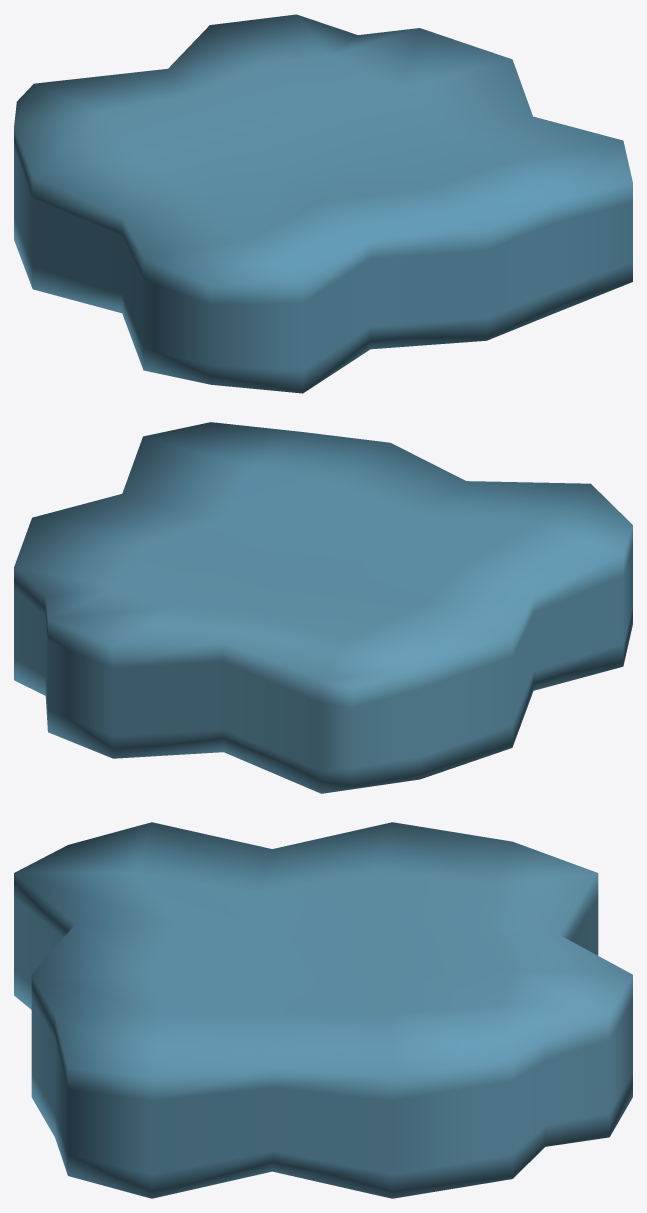
The model's file is su birikintisi deneme.fbx.
3 renders of one model, top to bottom at view 1: azimuth 30°, elevation 25°; view 2: azimuth 150°, elevation 25°; view 3: azimuth 270°, elevation 25°, orthographic. The views are drawn at different scales.
Visible parts, largest first — view 1: Plane; view 2: Plane; view 3: Plane.
Part boxes in pixels (bbox=[...]): Plane: bbox=[14, 14, 632, 393]; Plane: bbox=[14, 422, 632, 793]; Plane: bbox=[14, 822, 632, 1198].
Bounding box in the file's own units: 37.55 × 8.44 × 38.65.
1 material, 1 textured.
